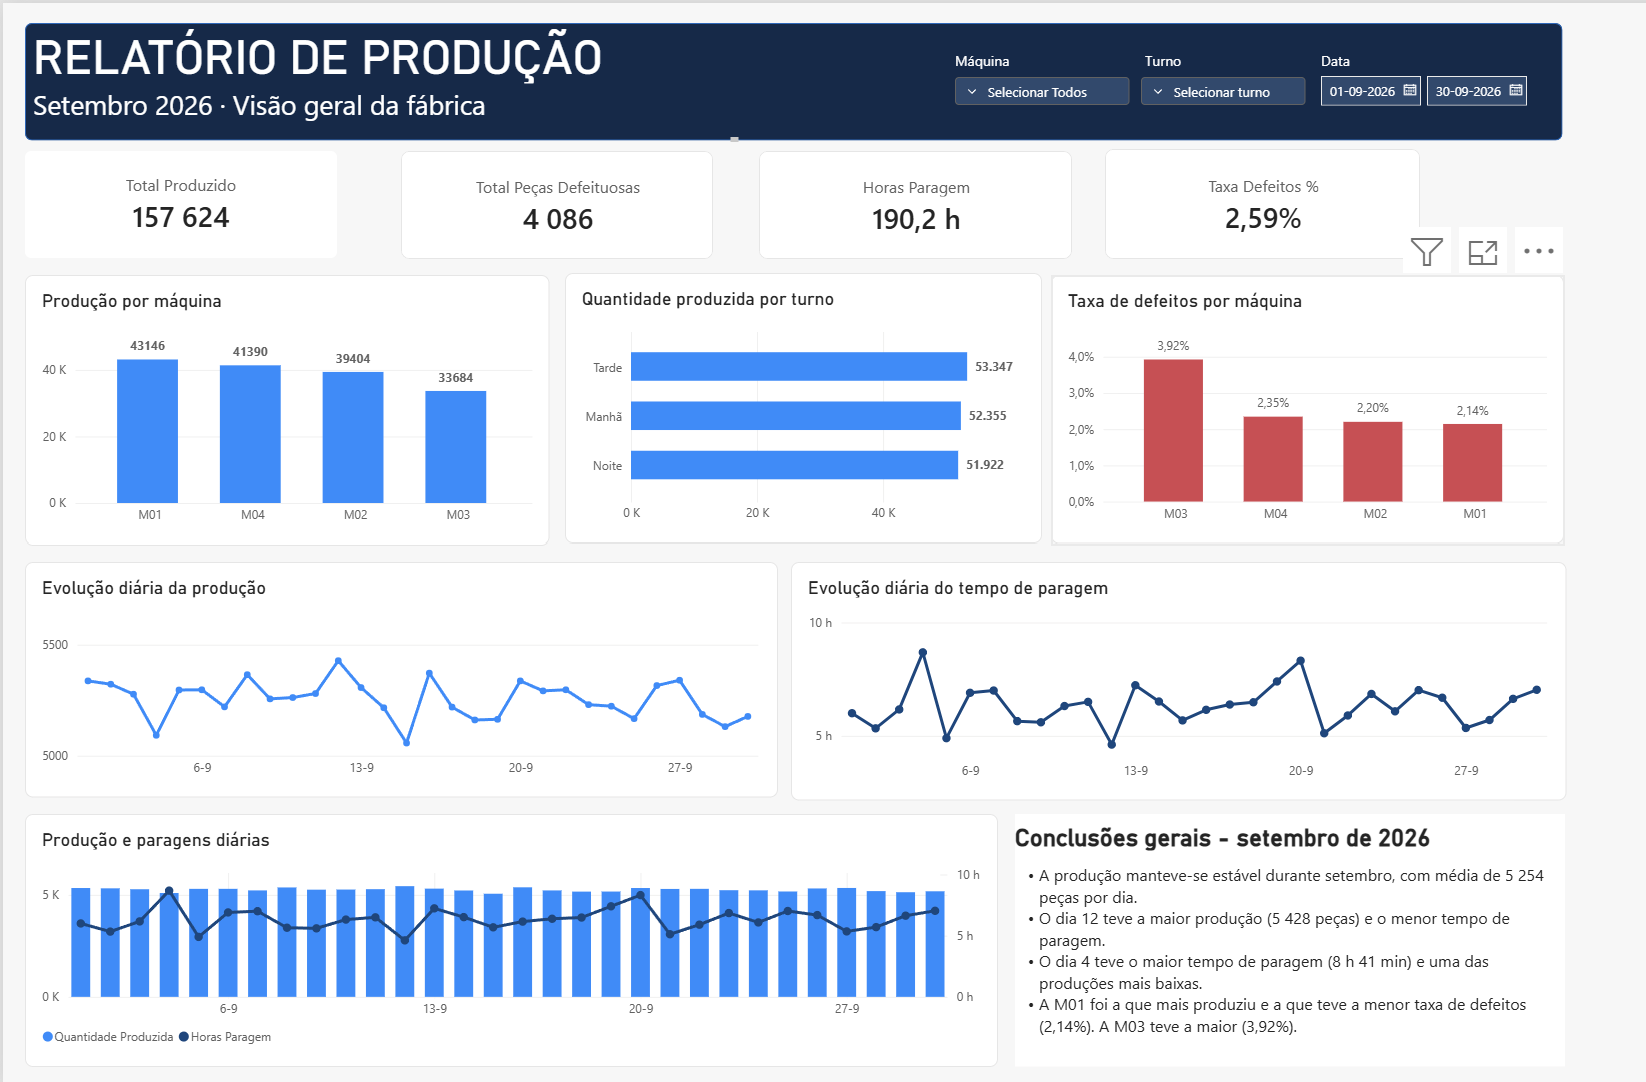

Layout of this report page (visuals, bound fields, positions):
{"tool":"powerbi","page":{"name":"Página 1","canvas":[1920,1080],"ordinal":0},"visuals":[{"type":"shape","box":[22.5,20,1537.5,117.5],"z":0},{"type":"cardVisual","title":"Tempo total de paragem (horas)","fields":{"Data":["producao_industrial.Horas Paragem"]},"box":[755,147.5,313.3,108.3],"z":1000},{"type":"cardVisual","title":"Produção Total da fabrica","fields":{"Data":["producao_industrial.Total Peças"]},"box":[21.7,148.3,312.9,107.1],"z":2000},{"type":"cardVisual","title":"Peças Defetuosas","fields":{"Data":["producao_industrial.Total Peças Defeituosas"]},"box":[398.3,148.3,312.9,108.6],"z":3000},{"type":"cardVisual","title":"Taxa de defeitos (%)","fields":{"Data":["producao_industrial.Taxa Defeitos %"]},"box":[1101.7,146.7,315,110],"z":4000},{"type":"columnChart","title":"Produção por máquina","fields":{"Category":["producao_industrial.maquina"],"Y":["Sum(producao_industrial.quantidade_produzida)"]},"box":[21.4,271.4,524.3,270],"z":5000},{"type":"columnChart","title":"Taxa de defeitos por máquina","fields":{"Category":["producao_industrial.maquina"],"Y":["producao_industrial.Taxa Defeitos %"]},"box":[1048.6,272.9,512.9,268.6],"z":6000},{"type":"barChart","title":"Quantidade produzida por turno","fields":{"Category":["producao_industrial.turno"],"Y":["Sum(producao_industrial.quantidade_produzida)"]},"box":[561.4,270,477.1,270],"z":7000},{"type":"lineChart","title":"Evolução diária da produção","fields":{"Category":["producao_industrial.data"],"Y":["Sum(producao_industrial.quantidade_produzida)"]},"box":[21.4,558.6,752.9,235.7],"z":8000},{"type":"lineChart","title":"Evolução diária do tempo de paragem","fields":{"Category":["producao_industrial.data"],"Y":["producao_industrial.Horas Paragem"]},"box":[787.1,558.6,775.7,238.6],"z":9000},{"type":"lineClusteredColumnComboChart","title":"Produção e paragens diárias","fields":{"Category":["producao_industrial.data"],"Y":["Sum(producao_industrial.quantidade_produzida)"],"Y2":["producao_industrial.Horas Paragem"]},"box":[21.4,810,972.9,252.9],"z":10000},{"type":"textbox","title":"RELATÓRIO DE PRODUÇÃO ","box":[30.6,26.8,705.7,112.8],"z":11000},{"type":"textbox","title":"RELATÓRIO DE PRODUÇÃO INDUSTRIAL","box":[1012.5,810,550,252.5],"z":12000},{"type":"listSlicer","fields":{"Values":["producao_industrial.maquina"]},"box":[935,59,206.7,56.7],"z":13000},{"type":"slicer","fields":{"Values":["producao_industrial.data"]},"box":[1294,54,250,72],"z":14000},{"type":"listSlicer","fields":{"Values":["producao_industrial.turno"]},"box":[1122,59,196.2,50],"z":15000},{"type":"textbox","box":[952.5,47.5,170,32.5],"z":16000},{"type":"textbox","box":[1142.5,47.5,105,25],"z":17000},{"type":"textbox","box":[1318,48,36,22],"z":18000}]}

Visuals, with their boxes on the page's 1920x1080 design canvas (x1, y1, x2, y2). These are canvas units, not pixel positions in the 1646x1082 screenshot, which may show the page scaled, cropped or inside an application window:
shape: {"left": 22, "top": 20, "right": 1560, "bottom": 138}
"Tempo total de paragem (horas)" cardVisual: {"left": 755, "top": 148, "right": 1068, "bottom": 256}
"Produção Total da fabrica" cardVisual: {"left": 22, "top": 148, "right": 335, "bottom": 255}
"Peças Defetuosas" cardVisual: {"left": 398, "top": 148, "right": 711, "bottom": 257}
"Taxa de defeitos (%)" cardVisual: {"left": 1102, "top": 147, "right": 1417, "bottom": 257}
"Produção por máquina" columnChart: {"left": 21, "top": 271, "right": 546, "bottom": 541}
"Taxa de defeitos por máquina" columnChart: {"left": 1049, "top": 273, "right": 1562, "bottom": 542}
"Quantidade produzida por turno" barChart: {"left": 561, "top": 270, "right": 1038, "bottom": 540}
"Evolução diária da produção" lineChart: {"left": 21, "top": 559, "right": 774, "bottom": 794}
"Evolução diária do tempo de paragem" lineChart: {"left": 787, "top": 559, "right": 1563, "bottom": 797}
"Produção e paragens diárias" lineClusteredColumnComboChart: {"left": 21, "top": 810, "right": 994, "bottom": 1063}
"RELATÓRIO DE PRODUÇÃO " textbox: {"left": 31, "top": 27, "right": 736, "bottom": 140}
"RELATÓRIO DE PRODUÇÃO INDUSTRIAL" textbox: {"left": 1012, "top": 810, "right": 1562, "bottom": 1062}
listSlicer - producao_industrial.maquina: {"left": 935, "top": 59, "right": 1142, "bottom": 116}
slicer - producao_industrial.data: {"left": 1294, "top": 54, "right": 1544, "bottom": 126}
listSlicer - producao_industrial.turno: {"left": 1122, "top": 59, "right": 1318, "bottom": 109}
textbox: {"left": 952, "top": 48, "right": 1122, "bottom": 80}
textbox: {"left": 1142, "top": 48, "right": 1248, "bottom": 72}
textbox: {"left": 1318, "top": 48, "right": 1354, "bottom": 70}
